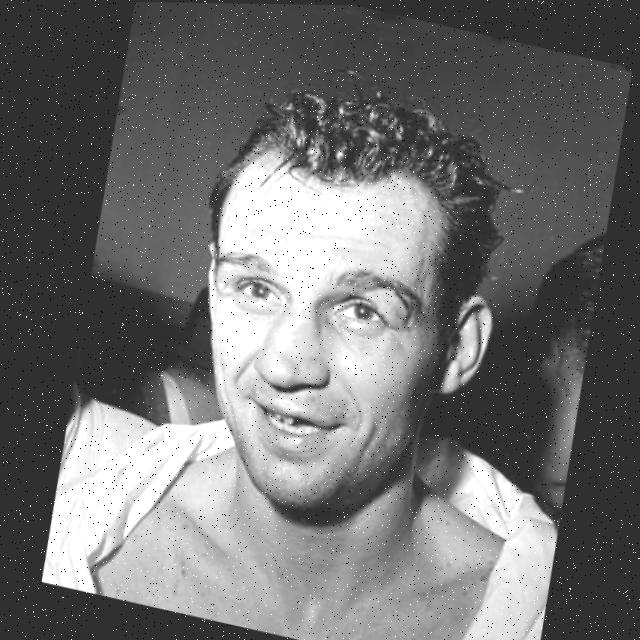face: (163, 138, 474, 538)
